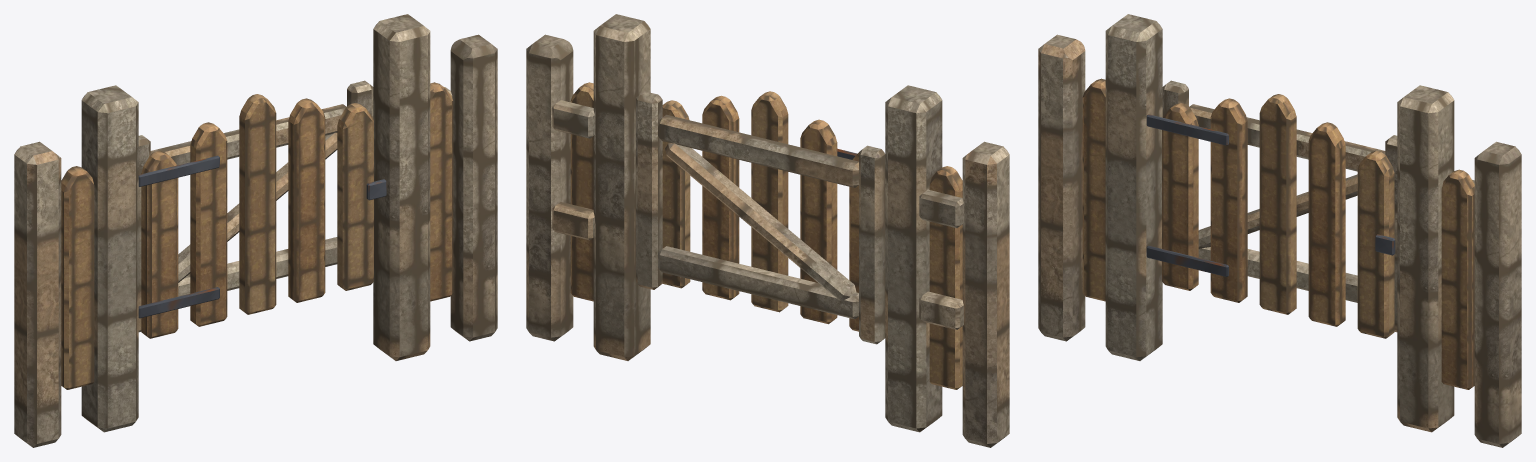
Rendered from bahce_kapisi.glb.
3 views of the same model, side by side, from view 1: azimuth 30°, elevation 25°; view 2: azimuth 150°, elevation 25°; view 3: azimuth 330°, elevation 25° (orthographic).
Parts seen in each view (by area): view 1: bahce_kapisi, Kanat; view 2: bahce_kapisi, Kanat; view 3: bahce_kapisi, Kanat.
Boxes of the visible parts, x1,y1,x2,y2 form: bahce_kapisi: (14,14,497,447); Kanat: (138,80,386,338); bahce_kapisi: (526,14,1009,447); Kanat: (636,91,885,344); bahce_kapisi: (1038,14,1521,447); Kanat: (1146,80,1397,338).
Bounding box in the file's own units: 3 × 2 × 0.28.
Materials: 1 (1 with a texture image).
